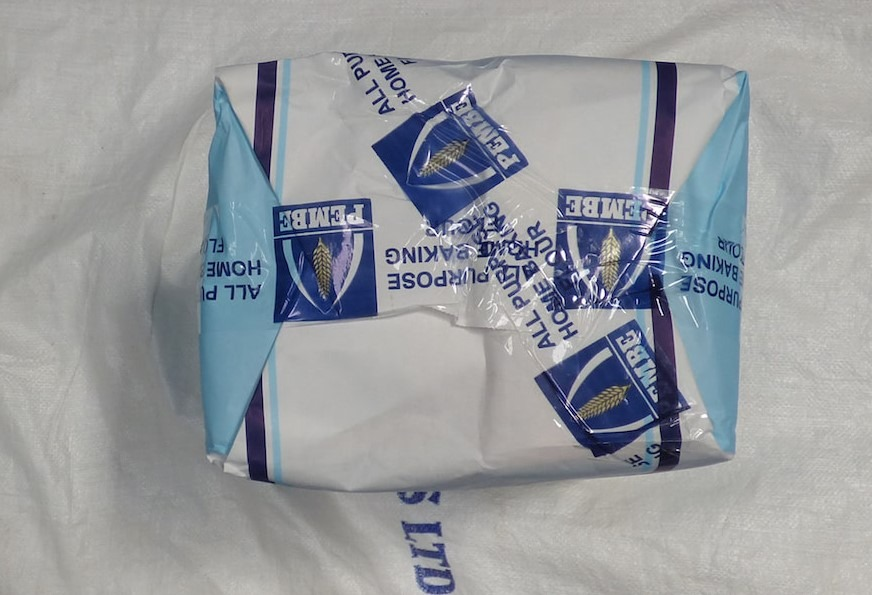wheat_flour_blue_label: (190, 65, 730, 450)
